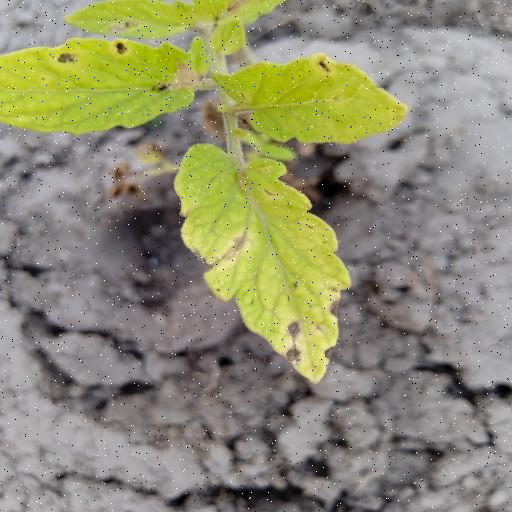Tomato_Brown_Spots: (174, 140, 356, 388), (0, 37, 207, 134), (212, 52, 414, 148)
